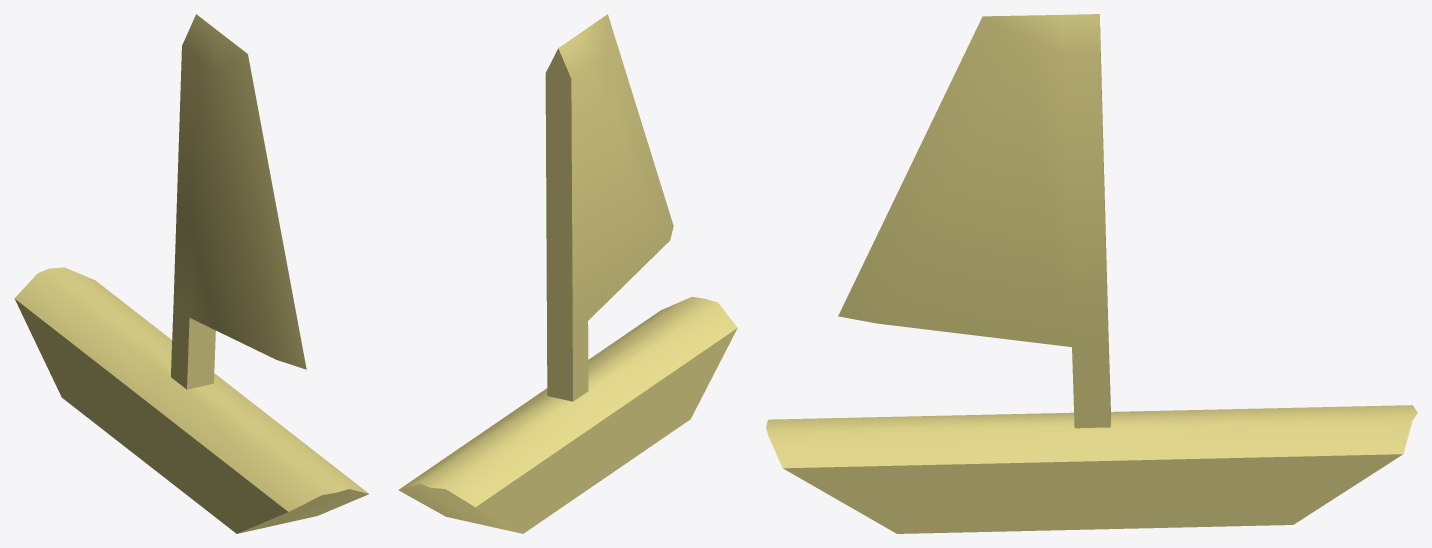
Rendered from Boat.fbx.
3 renders of one model, left to right at view 1: azimuth 30°, elevation 25°; view 2: azimuth 150°, elevation 25°; view 3: azimuth 270°, elevation 25°, orthographic. The views are drawn at different scales.
Visible parts, largest first — view 1: Cube.013; view 2: Cube.013; view 3: Cube.013.
Part boxes in pixels (<box>): Cube.013: <box>14,14,368,533</box>; Cube.013: <box>398,14,737,533</box>; Cube.013: <box>766,14,1417,533</box>.
Bounding box in the file's own units: 8.98 × 46.16 × 54.29.
